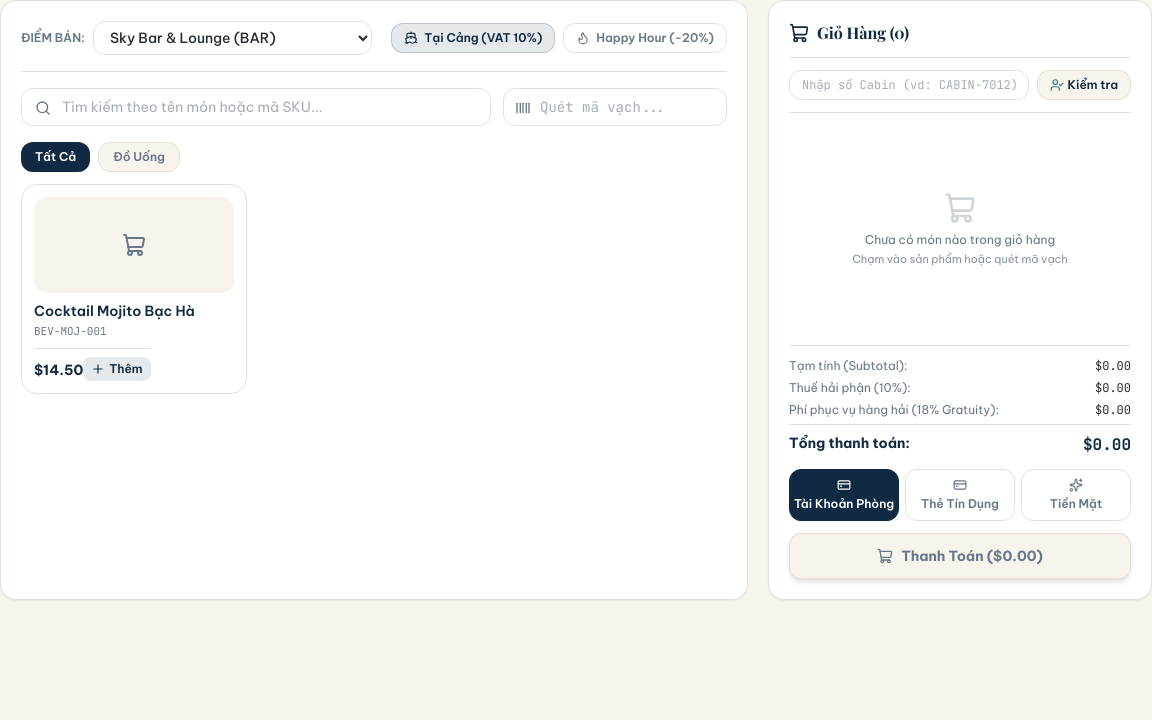
PosRegister Component Tests (KAN-234 & KAN-392) › looks up cabin folio and renders available limit
In the field with placeholder "Nhập số Cabin (vd: CABIN-7012)": (909, 85) [789,70,1029,100], type "CABIN-7012"
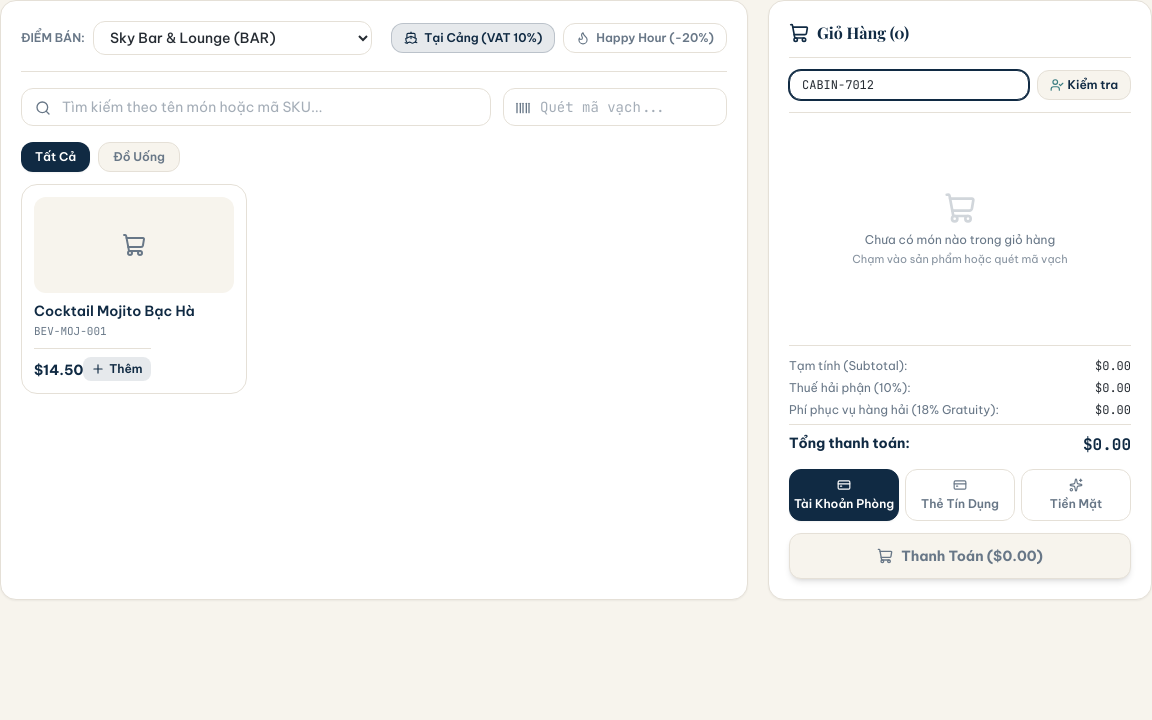
Click the button "Kiểm tra": (1084, 85) [1037,70,1131,100]
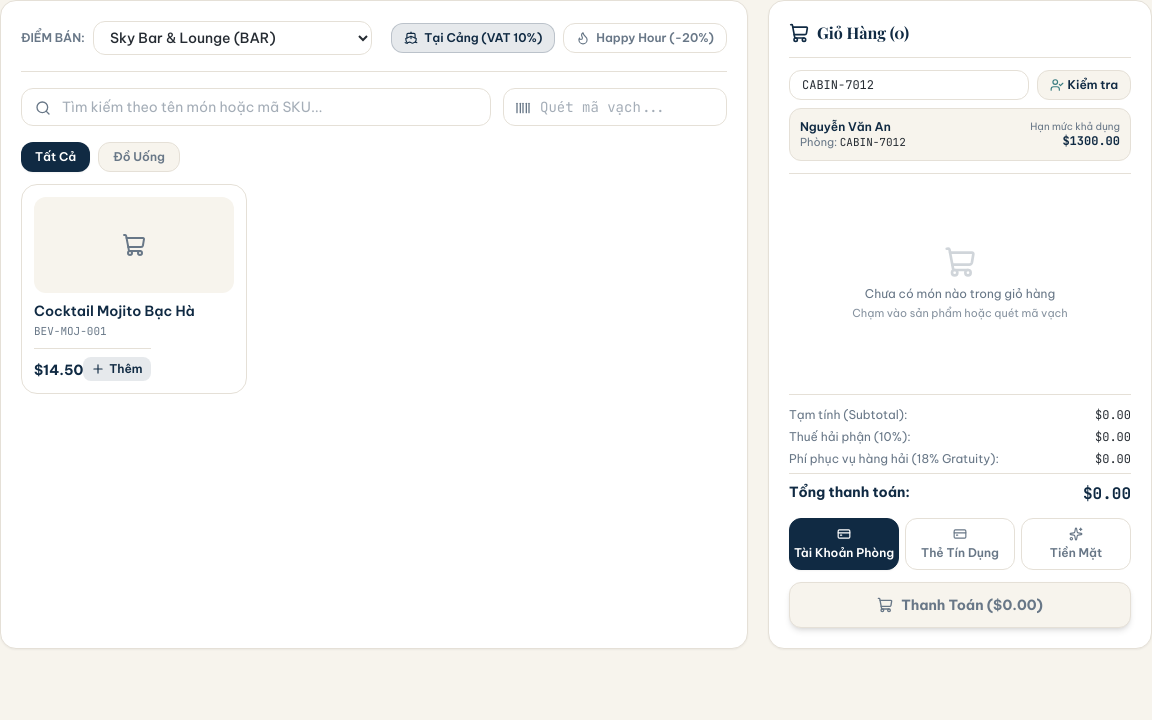
Result: the text "Nguyễn Văn An" is shown at [800,119,906,135]
Result: the text "$1300.00" is shown at [1062,133,1120,149]
